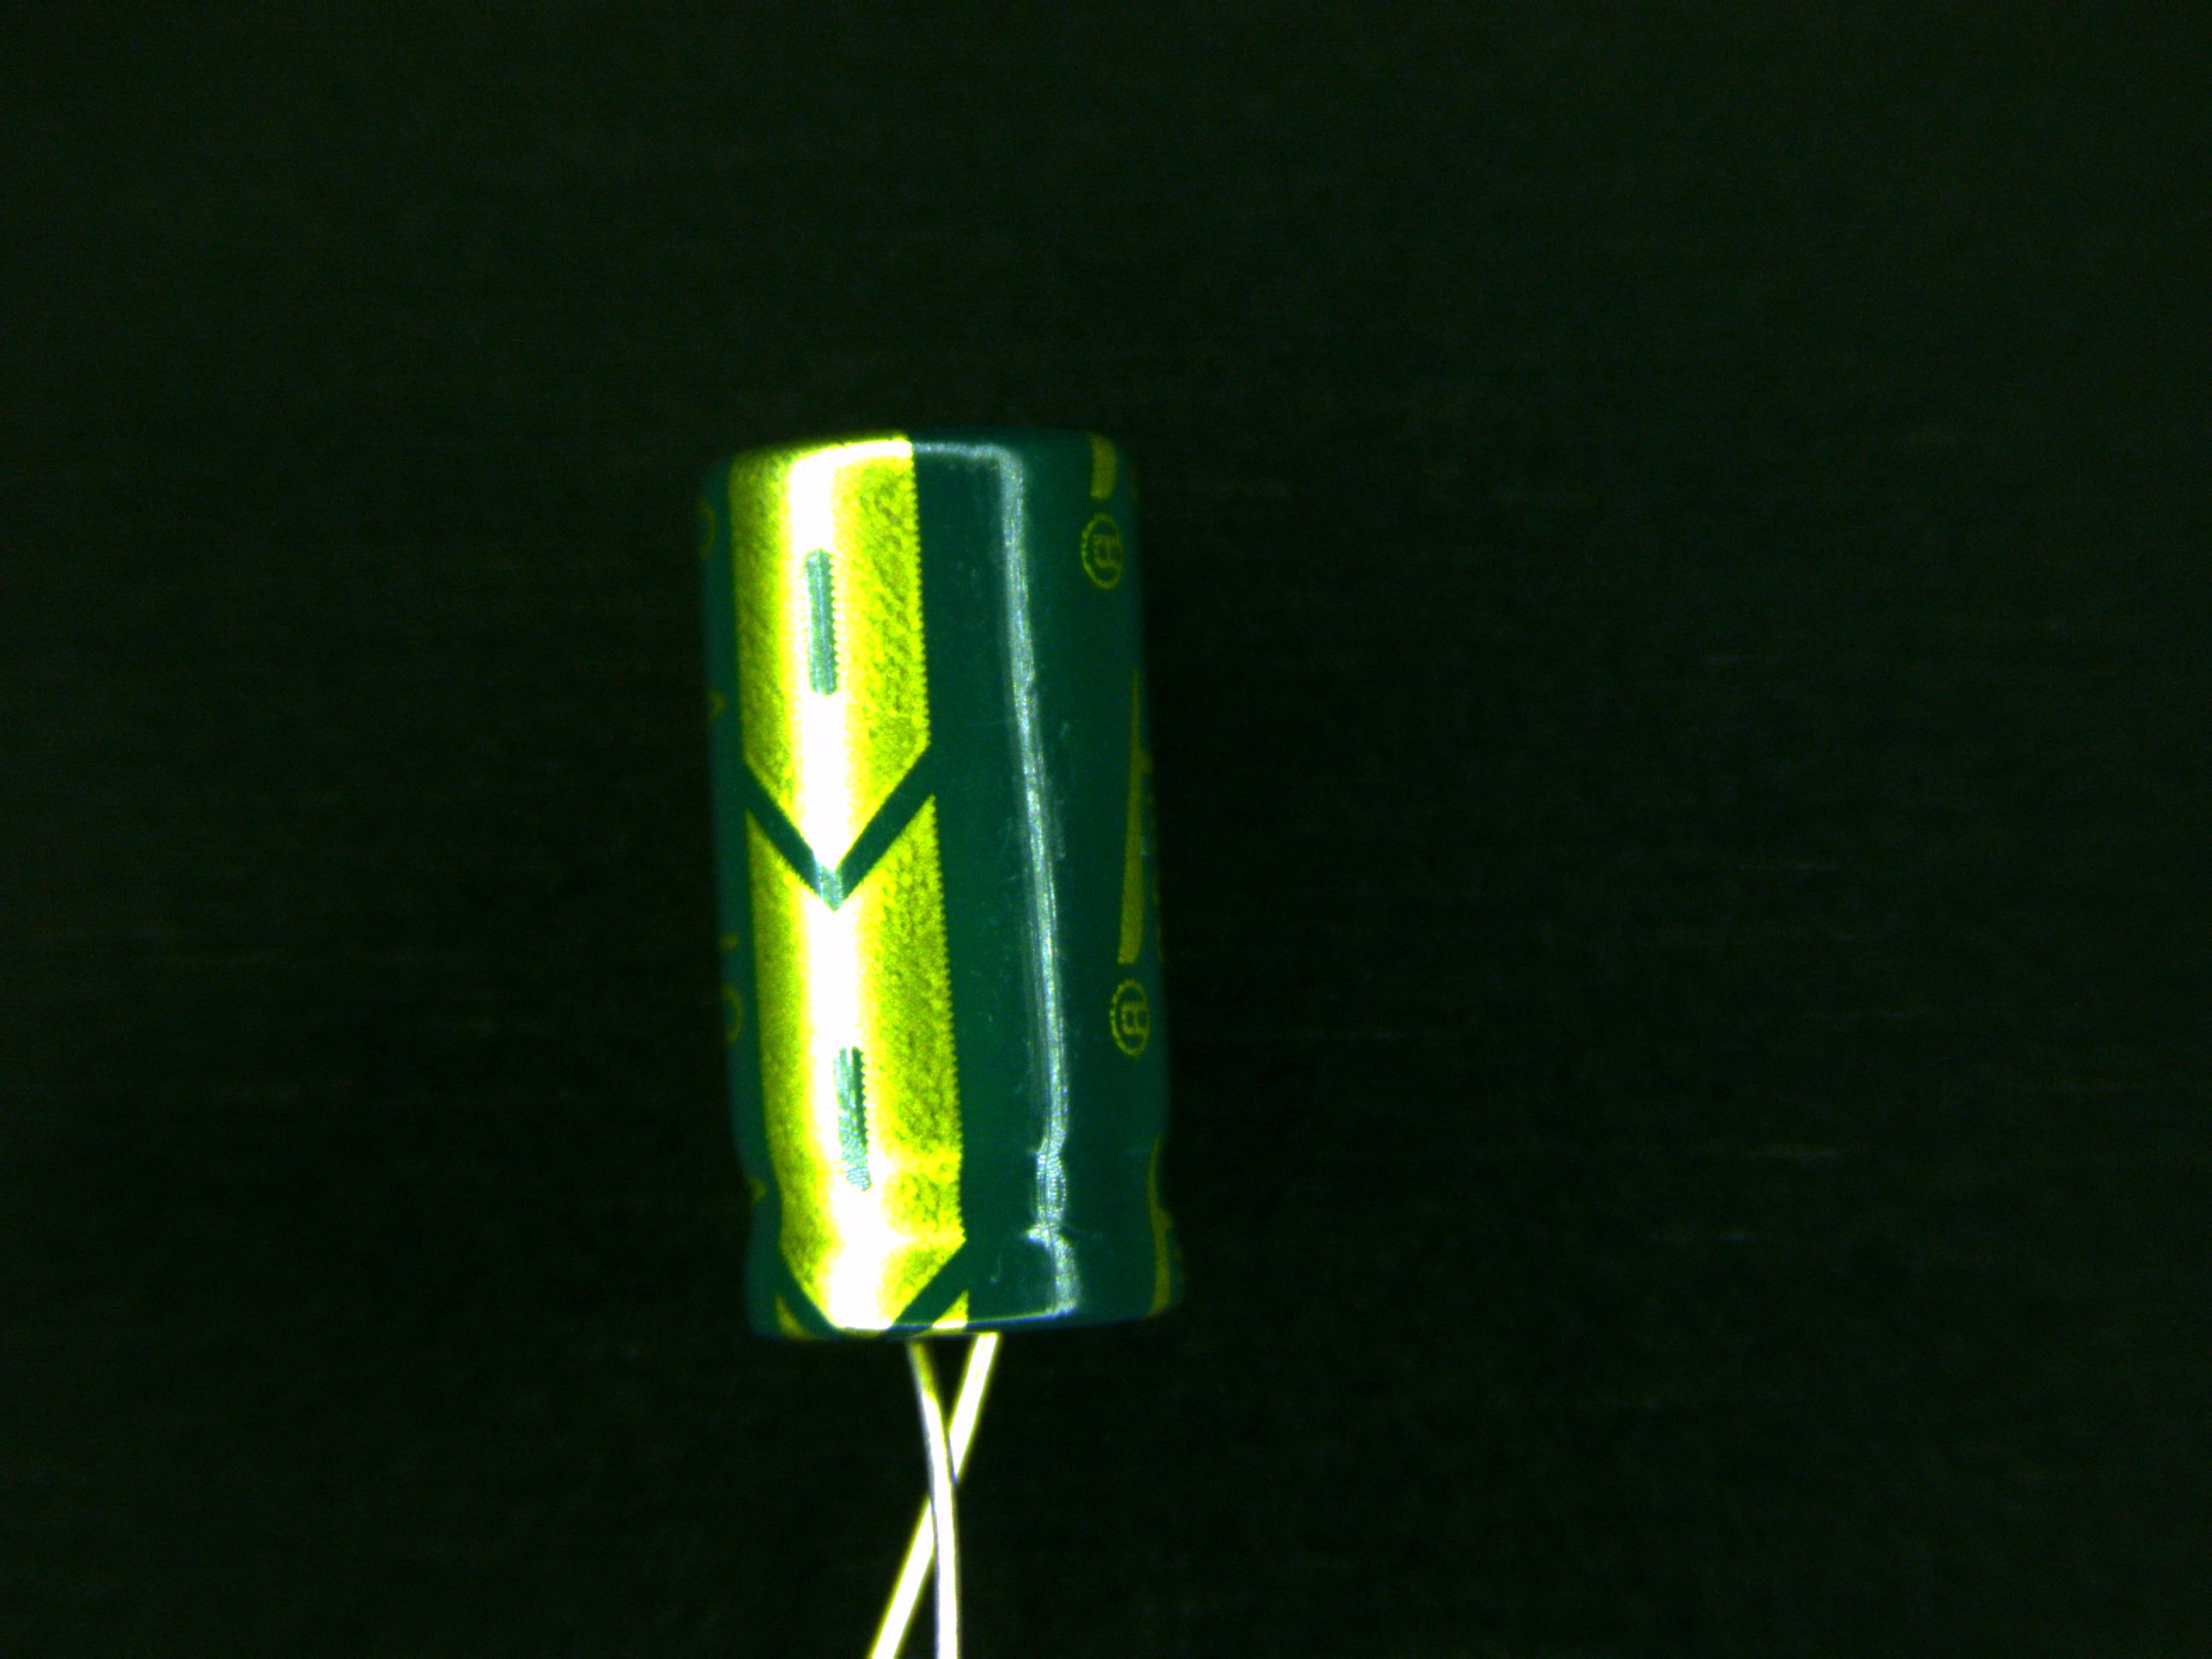c1: (691, 427, 1188, 1429)
